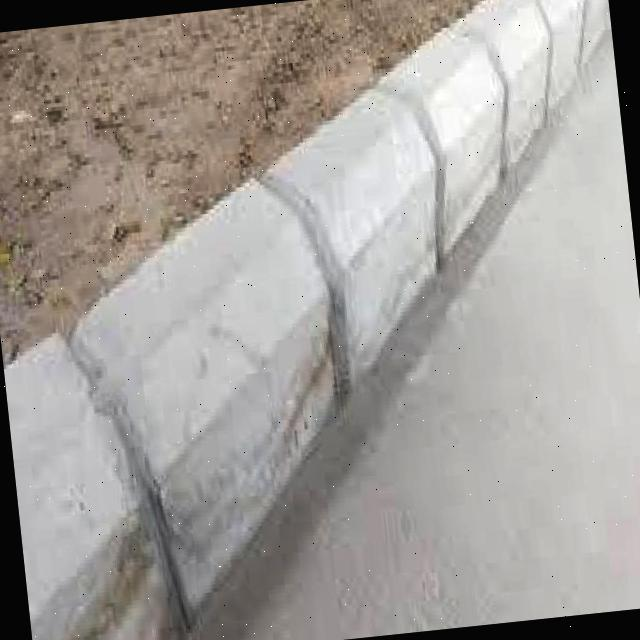curb: (1, 191, 322, 640), (190, 54, 460, 438), (401, 1, 622, 216)
